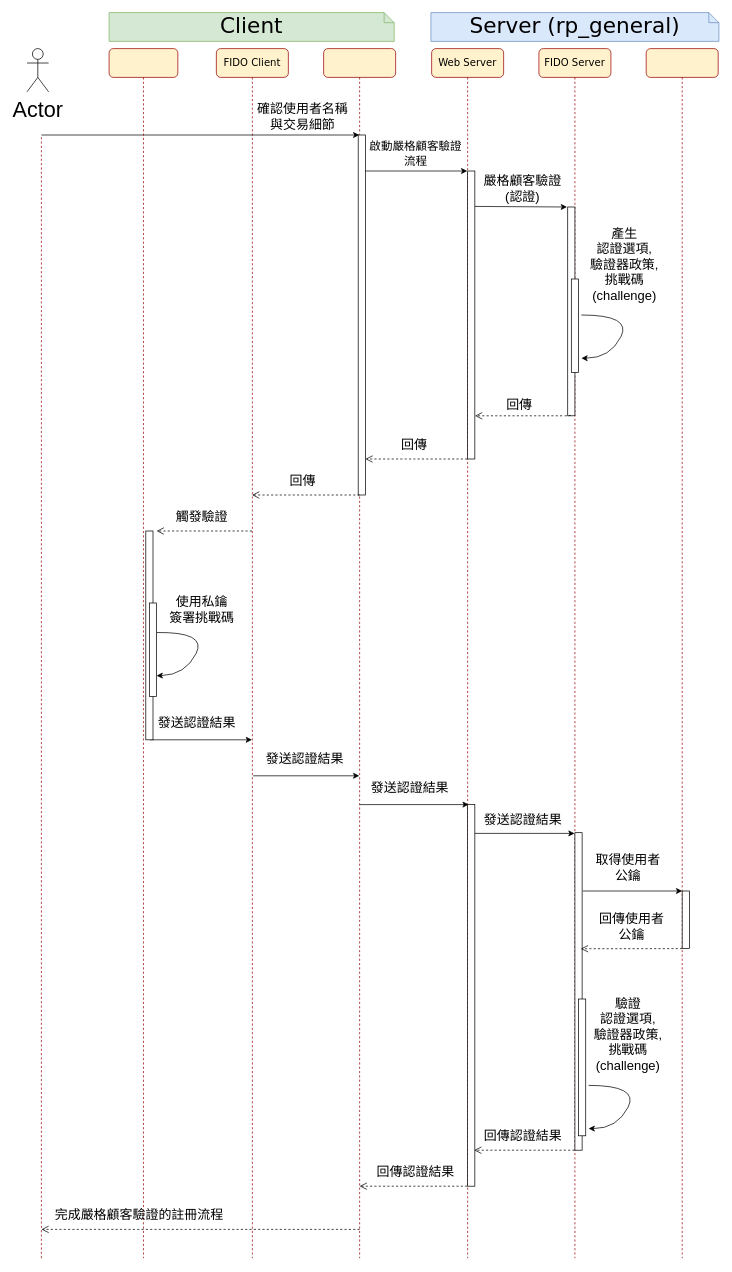
Some shapes in this 732 by 1272 pixel diagram are drawn without their labels. Here are the shapes that lost their labels. From the top down, the box of each, then its label:
(108, 48, 178, 1258): Authenticator
(323, 48, 396, 1258): Browser
(645, 48, 718, 1258): Database Server
